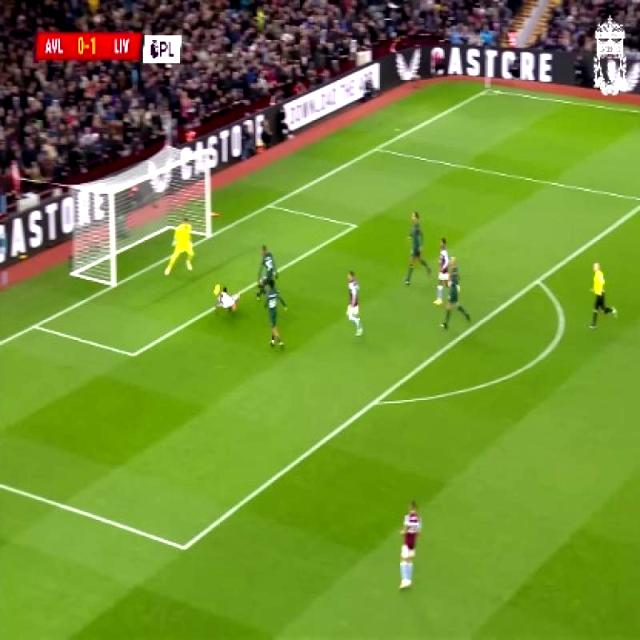bigarea_bottom_inner: (170, 528, 197, 564)
bigarea_top_outter: (366, 135, 386, 160)
bottom_arc_area_intersection: (362, 384, 388, 418)
corner: (477, 80, 500, 97)
smallarea_bottom_inner: (120, 337, 145, 371)
smallarea_bottom_outter: (24, 311, 46, 339)
smallarea_top_inner: (343, 212, 365, 238)
smallarea_top_outter: (258, 192, 280, 218)
top_arc_area_intersection: (528, 268, 548, 292)
